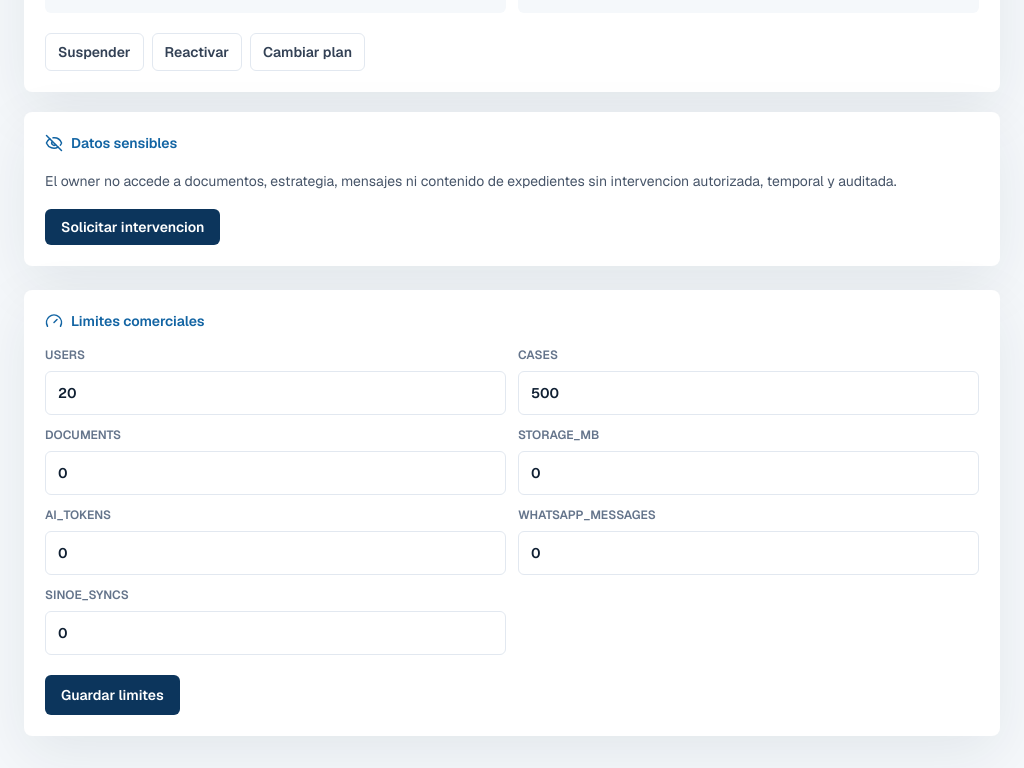
Test: Owner Console UI › saves tenant commercial limits through the owner API
This screenshot has width=1024, height=768.
(page scrolled)
Replace the text in the number field showing "20" with "33": (276, 393) [45,371,506,415]
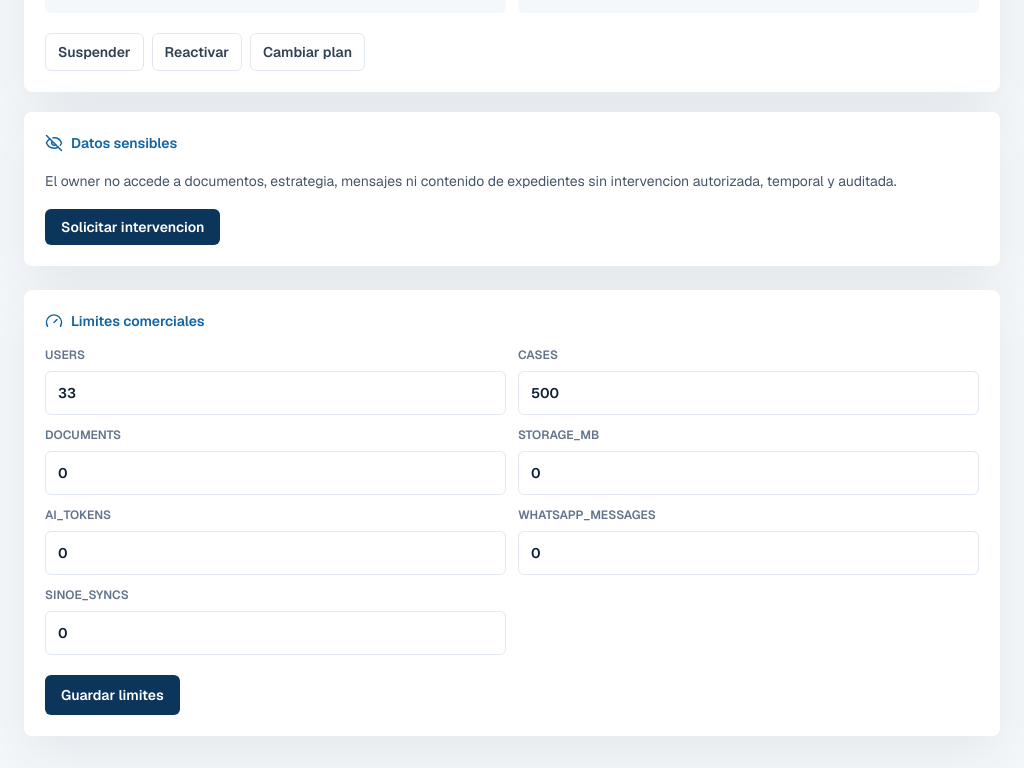
Click the button "Guardar limites": (112, 695) [45,675,180,715]
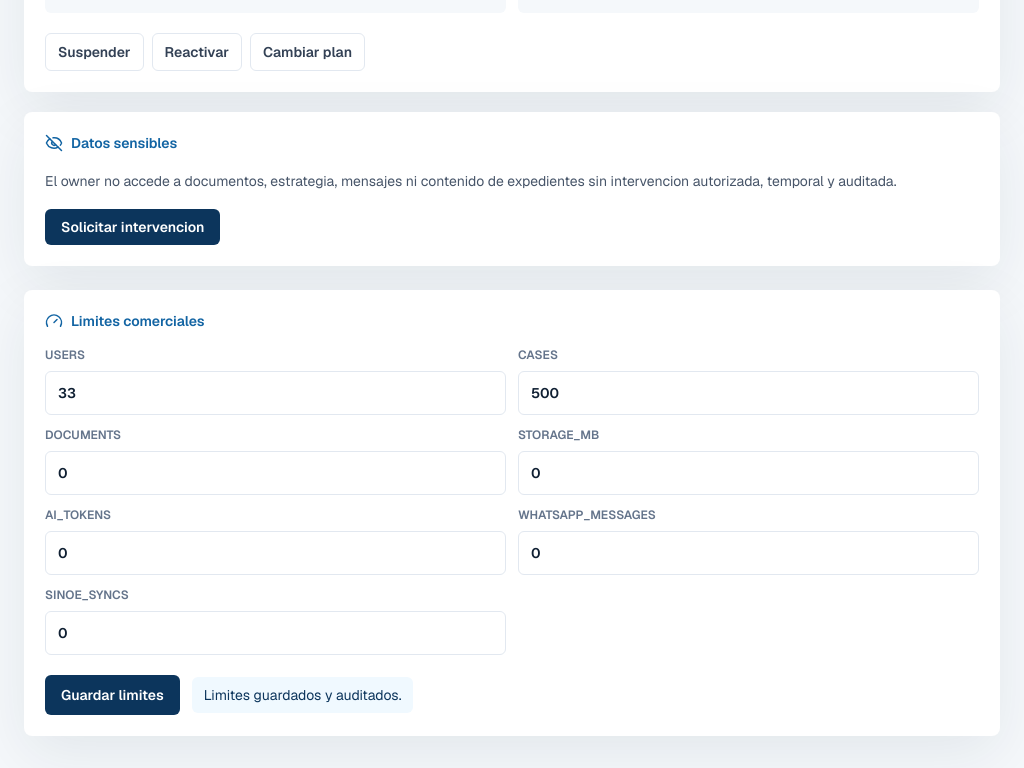
Expected: the text "Limites guardados y auditados." is shown, [192,677,413,713]
